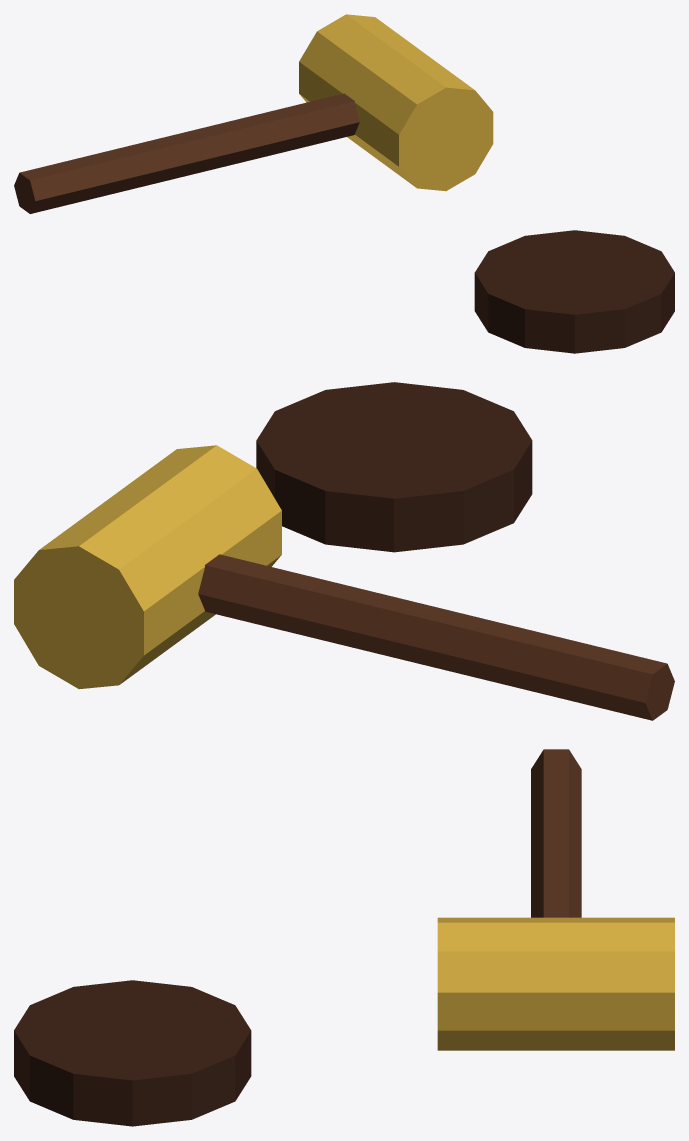
Rendered from auction_gavel.glb.
3 views of the same model, one above another, from view 1: azimuth 30°, elevation 25°; view 2: azimuth 150°, elevation 25°; view 3: azimuth 270°, elevation 25° (orthographic). The views are drawn at different scales.
Parts seen in each view (by area): view 1: block_auction_wood_dark, head_auction_gold, handle_auction_wood; view 2: head_auction_gold, block_auction_wood_dark, handle_auction_wood; view 3: head_auction_gold, block_auction_wood_dark, handle_auction_wood.
Boxes of the visible parts, box(x1,y1,x2,y2) form: block_auction_wood_dark: box(474, 230, 674, 353); head_auction_gold: box(299, 14, 493, 191); handle_auction_wood: box(14, 93, 359, 213); head_auction_gold: box(14, 445, 281, 689); block_auction_wood_dark: box(256, 382, 532, 552); handle_auction_wood: box(198, 554, 674, 720); head_auction_gold: box(437, 917, 674, 1050); block_auction_wood_dark: box(14, 980, 251, 1126); handle_auction_wood: box(531, 749, 581, 917).
Bounding box in the file's own units: 0.37 × 0.1 × 0.39.
